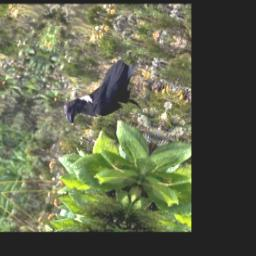Crow: (58, 47, 156, 143)
